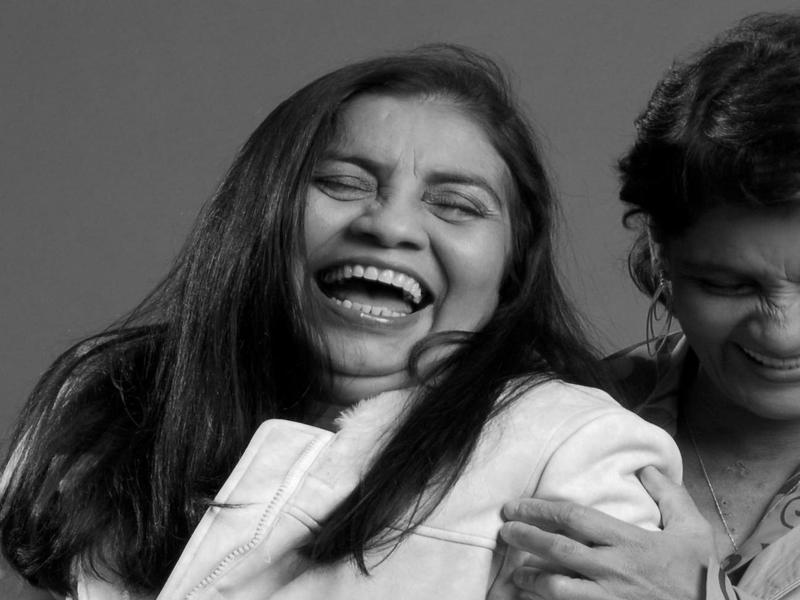person: (13, 45, 663, 600), (515, 24, 800, 600)
